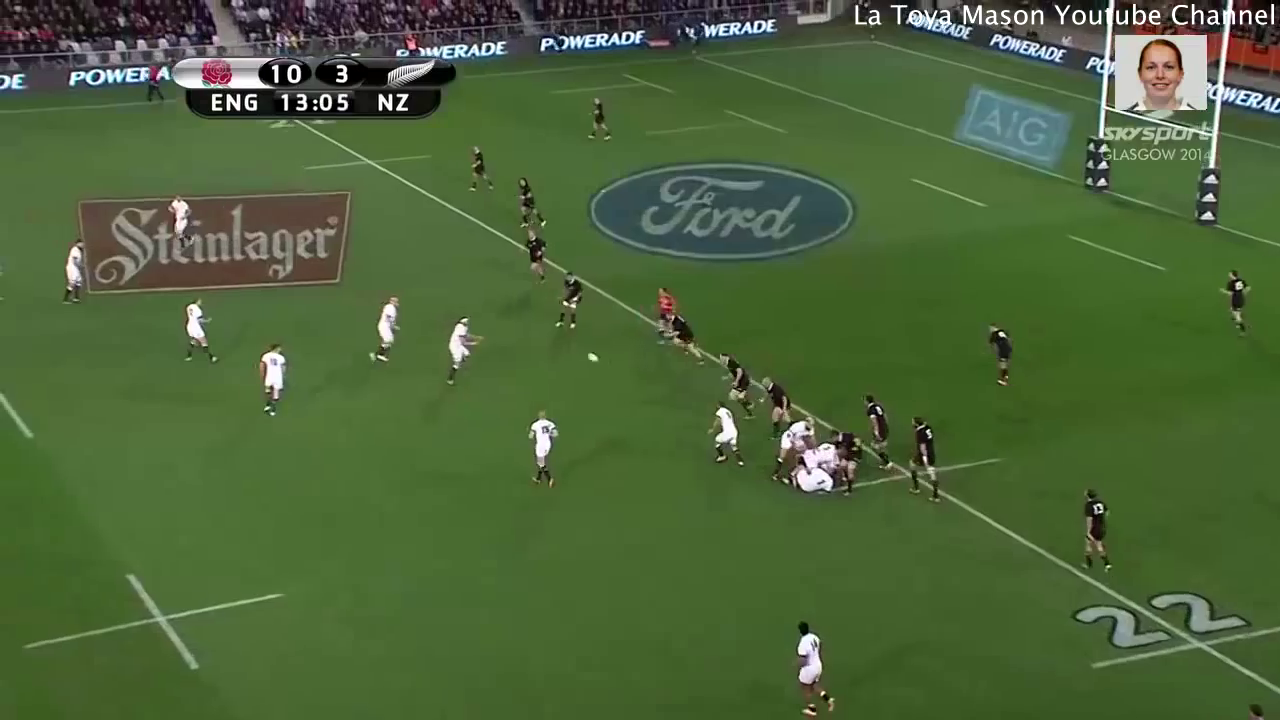10_metre: (15, 566, 285, 676)
player: (789, 624, 838, 719), (1076, 481, 1118, 581), (905, 413, 947, 503), (436, 312, 485, 388), (858, 392, 899, 478), (178, 290, 223, 368), (521, 412, 564, 488), (249, 340, 289, 420), (713, 352, 757, 422), (53, 235, 93, 306), (365, 292, 404, 364), (549, 264, 587, 337), (979, 320, 1018, 390), (1220, 266, 1256, 336), (456, 140, 500, 197), (519, 224, 556, 290), (711, 401, 745, 468), (666, 312, 706, 368), (776, 416, 816, 472), (163, 193, 200, 251), (513, 176, 548, 232), (761, 370, 794, 426), (585, 92, 614, 146), (833, 428, 863, 478), (649, 284, 673, 342)
post: (1075, 109, 1225, 234)
ruck: (776, 423, 863, 500)
